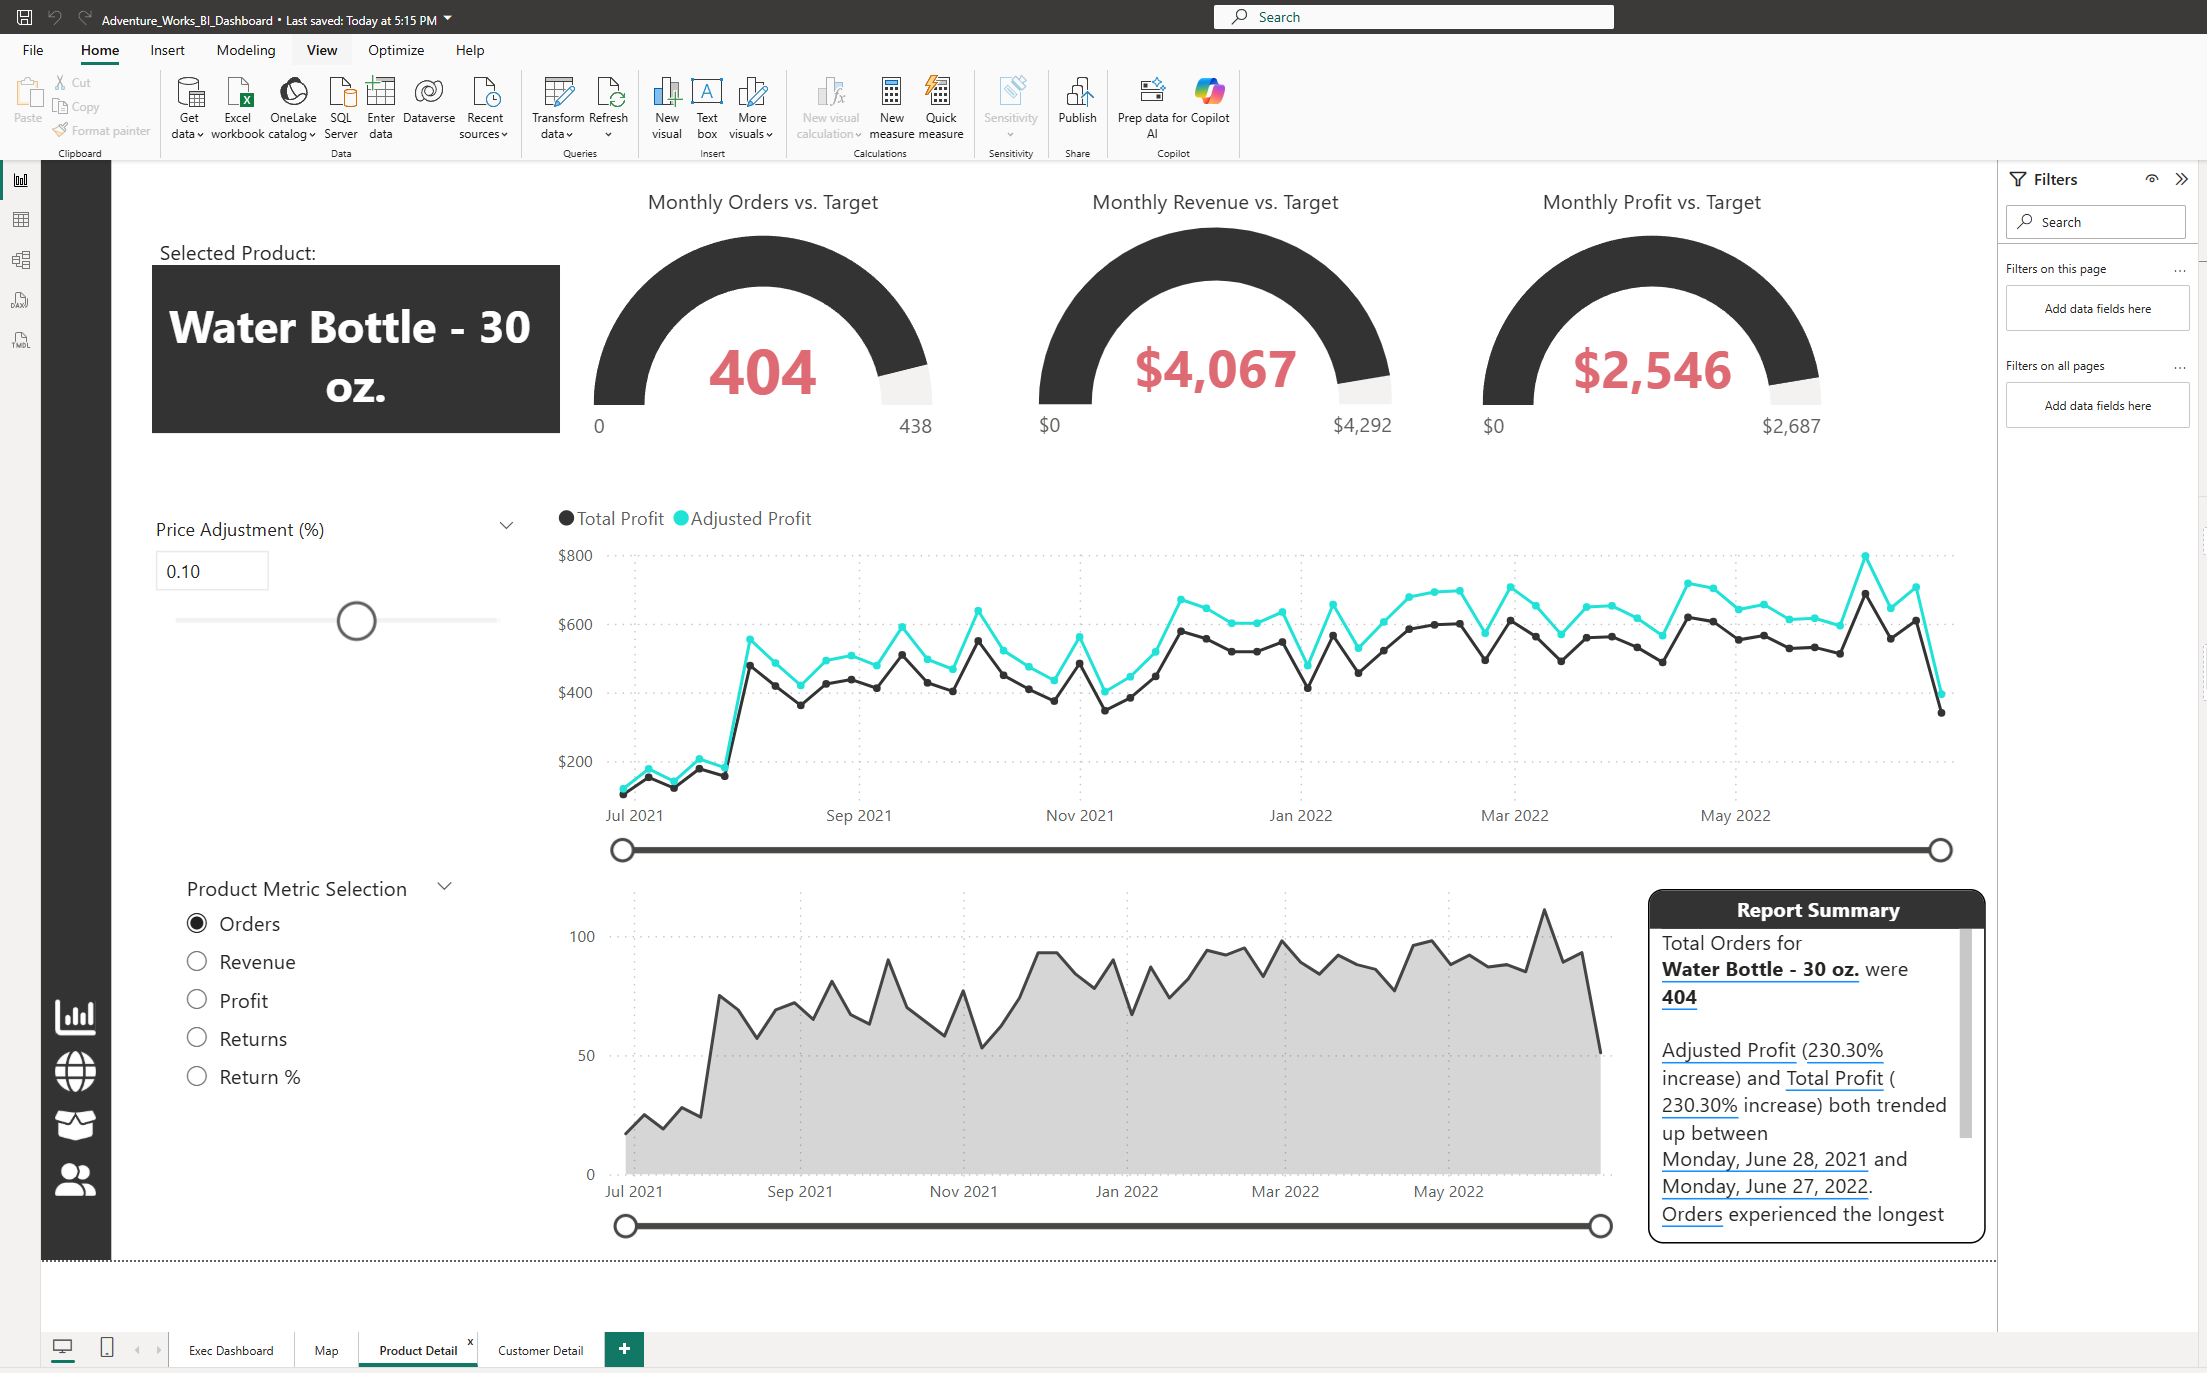

What the dashboard file says about the page in this screenshot:
{"tool":"powerbi","page":{"name":"Product Detail","canvas":[1280,720],"ordinal":2},"visuals":[{"type":"shape","box":[0,0,46.4,720],"z":0},{"type":"actionButton","box":[5,543.7,36.6,34.7],"z":0,"group":"g1"},{"type":"gauge","title":"Monthly Orders vs. Target","fields":{"Y":["Measure Table.Total Orders"],"MaxValue":["Measure Table.Order Target"]},"box":[356.6,18.3,231.7,183.2],"z":1000},{"type":"actionButton","box":[5,579,36.6,34.7],"z":1000,"group":"g1"},{"type":"gauge","title":"Monthly Revenue vs. Target","fields":{"Y":["Measure Table.Total Revenue"],"MaxValue":["Measure Table.Revenue Target"]},"box":[647.9,18.3,241.5,177.3],"z":2000},{"type":"actionButton","box":[5,614.4,36.6,34.7],"z":2000,"group":"g1"},{"type":"gauge","title":"Monthly Profit vs. Target","fields":{"Y":["Measure Table.Total Profit"],"MaxValue":["Measure Table.Profit Target"]},"box":[938.4,18.3,231.7,183.2],"z":3000},{"type":"actionButton","box":[5,649.7,36.6,34.7],"z":3000,"group":"g1"},{"type":"lineChart","title":"Profit Trending","fields":{"Category":["Calendar Lookup.Date Hierarchy.Start of Month","Calendar Lookup.Date Hierarchy.Start of Week","Calendar Lookup.Date Hierarchy.Date"],"Y":["Measure Table.Total Profit","Measure Table.Adjusted Profit"]},"box":[333.4,214.6,939.6,248],"z":4000},{"type":"areaChart","title":"Return Trending","fields":{"Y":["Measure Table.Total Orders"],"Category":["Calendar Lookup.Date Hierarchy.Start of Month","Calendar Lookup.Date Hierarchy.Start of Week","Calendar Lookup.Date Hierarchy.Date"]},"box":[339.6,462.7,710,246.1],"z":5000},{"type":"card","fields":{"Values":["Min(Product Lookup.ProductName)"]},"box":[72.6,68.7,267,109.9],"z":6000},{"type":"textbox","box":[72.6,46.5,153.1,27.5],"z":7000},{"type":"group","id":"g1","title":"Navigation Buttons","box":[5,543.7,36.8,141.3],"z":8000},{"type":"slicer","fields":{"Values":["Price Adjustment (%).Price Adjustment (%)"]},"box":[62.5,227.6,259.8,149.7],"z":9000},{"type":"slicer","fields":{"Values":["Product Metric Selection.Product Metric Selection"]},"box":[82.5,462.7,199.6,200.2],"z":10000},{"type":"textbox","title":"Report Summary","box":[1051.6,477.1,221.2,231.7],"z":11000}]}

Visuals, with their boxes on the page's 1280x720 design canvas (x1, y1, x2, y2). These are canvas units, not pixel positions in the 2207x1373 screenshot, which may show the page scaled, cropped or inside an application window:
shape: select_region(0, 0, 46, 720)
actionButton: select_region(5, 544, 42, 578)
"Monthly Orders vs. Target" gauge: select_region(357, 18, 588, 202)
actionButton: select_region(5, 579, 42, 614)
"Monthly Revenue vs. Target" gauge: select_region(648, 18, 889, 196)
actionButton: select_region(5, 614, 42, 649)
"Monthly Profit vs. Target" gauge: select_region(938, 18, 1170, 202)
actionButton: select_region(5, 650, 42, 684)
"Profit Trending" lineChart: select_region(333, 215, 1273, 463)
"Return Trending" areaChart: select_region(340, 463, 1050, 709)
card - Min(Product Lookup.ProductName): select_region(73, 69, 340, 179)
textbox: select_region(73, 46, 226, 74)
"Navigation Buttons" group: select_region(5, 544, 42, 685)
slicer - Price Adjustment (%).Price Adjustment (%): select_region(62, 228, 322, 377)
slicer - Product Metric Selection.Product Metric Selection: select_region(82, 463, 282, 663)
"Report Summary" textbox: select_region(1052, 477, 1273, 709)
